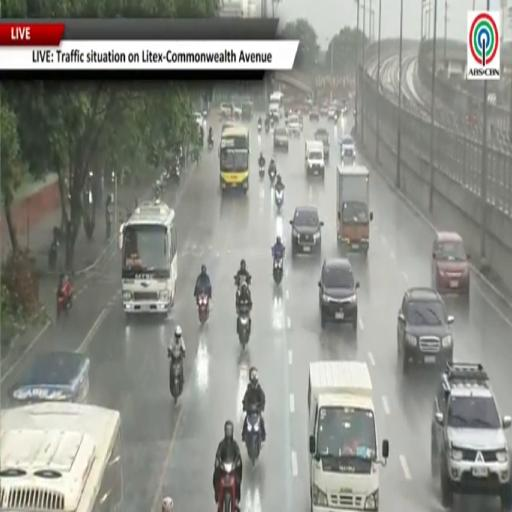bus: (0, 403, 123, 511), (119, 201, 177, 317), (219, 125, 250, 193)
car: (431, 363, 511, 510), (397, 287, 453, 373), (10, 351, 89, 405), (318, 258, 359, 330), (432, 232, 470, 297), (290, 206, 323, 257), (315, 128, 329, 162), (339, 135, 355, 163), (274, 126, 288, 151), (288, 115, 301, 136), (242, 101, 253, 120), (220, 102, 232, 118), (309, 106, 320, 121), (222, 122, 236, 133), (328, 104, 338, 119), (194, 112, 203, 127), (233, 105, 242, 120), (319, 102, 328, 116)
motorcycle: (218, 460, 238, 511), (246, 407, 261, 465), (170, 358, 182, 405), (57, 283, 73, 318), (237, 309, 250, 348), (234, 276, 251, 303), (48, 239, 59, 271), (198, 294, 209, 325), (273, 258, 283, 284), (275, 188, 284, 212), (169, 163, 180, 181), (106, 211, 112, 239), (269, 168, 276, 183), (259, 166, 264, 179), (209, 138, 213, 151), (265, 122, 269, 133), (300, 120, 303, 132), (258, 122, 261, 133)
truck: (308, 361, 389, 511), (337, 165, 373, 254)
